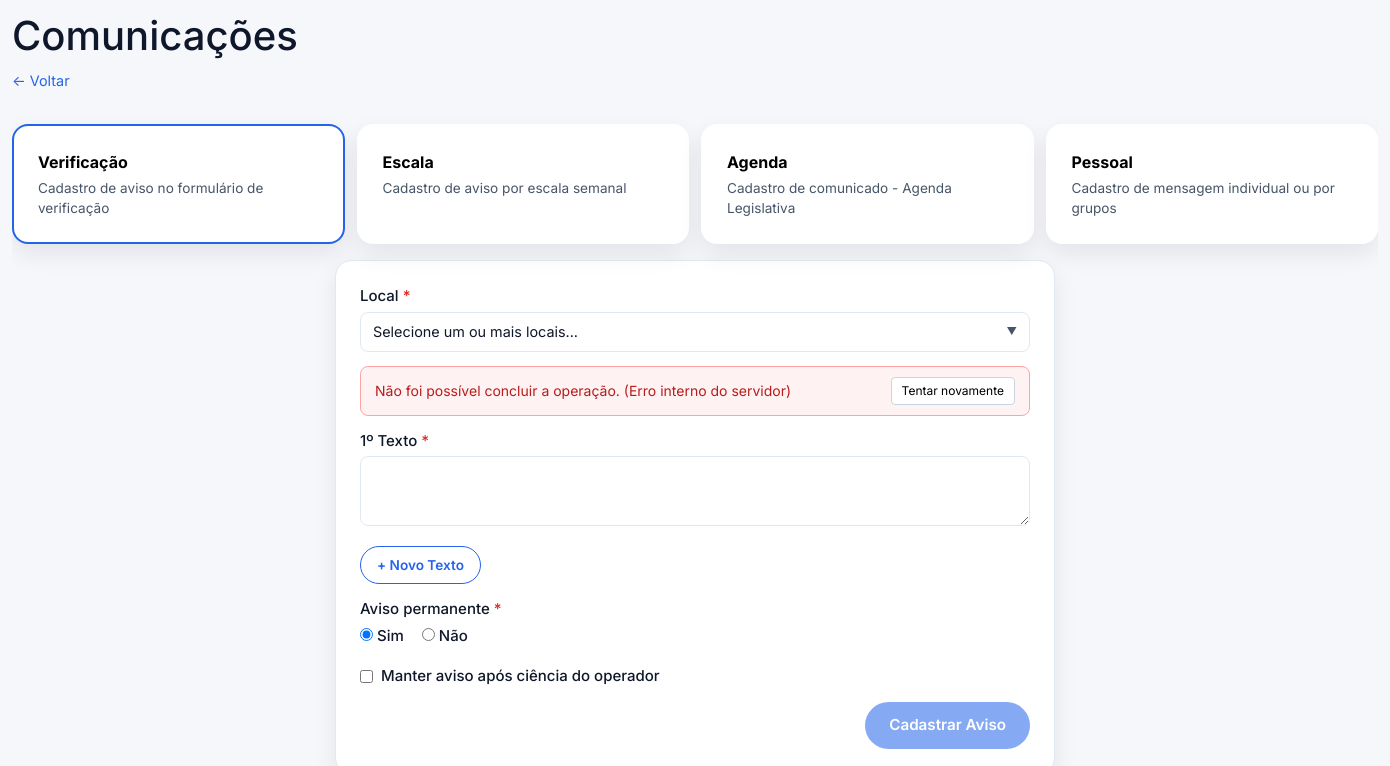
AdminAvisosSalaComponent — canal de erro da listagem › lock "1 aviso ativo por sala" — fail-closed › retry com sucesso: destrava o envio e as salas ocupadas voltam rotuladas/travadas
The width and height of the screenshot is (1390, 766).
Click the button "Tentar novamente" at {"x": 953, "y": 390}, box [891,376,1015,404]
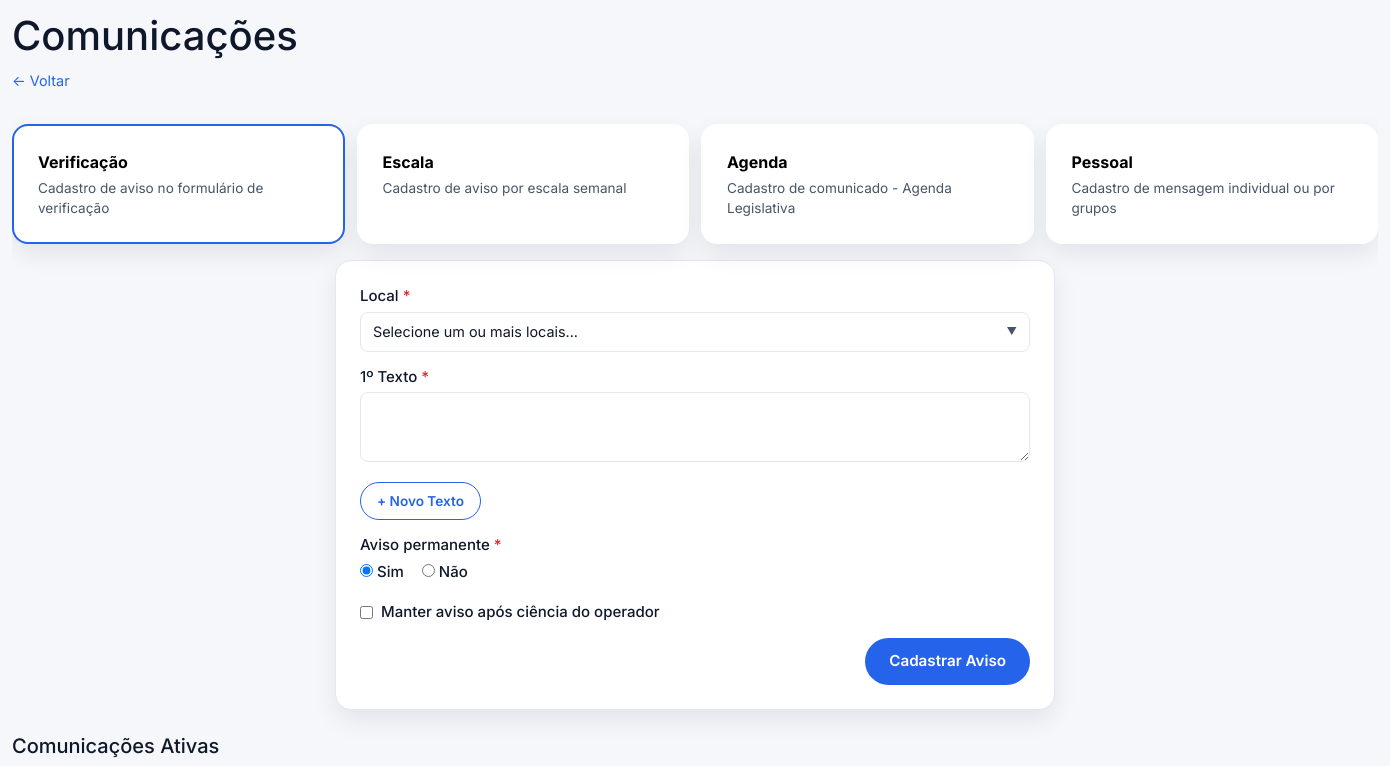
Result: the button with class "btn-primary-custom" is enabled at [865,638,1030,685]
